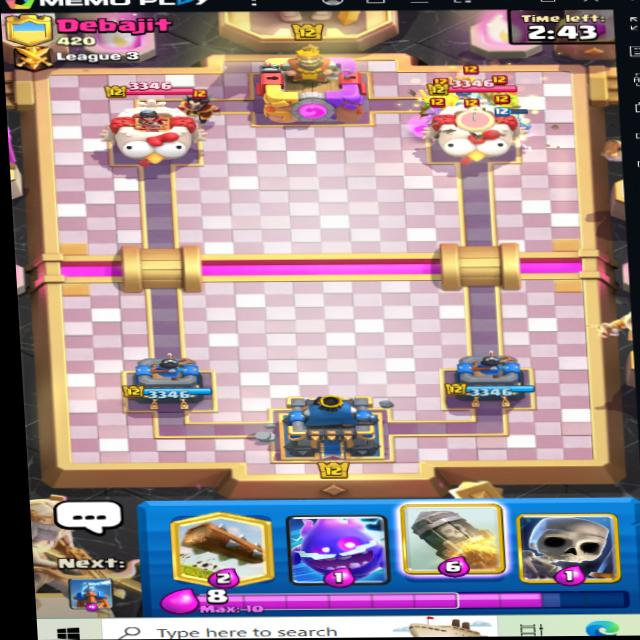electro-wizard: (173, 82, 229, 132)
goblin: (420, 98, 453, 121), (484, 100, 524, 113)
spear-goblin: (455, 69, 496, 99), (491, 72, 520, 98), (428, 81, 457, 100)
